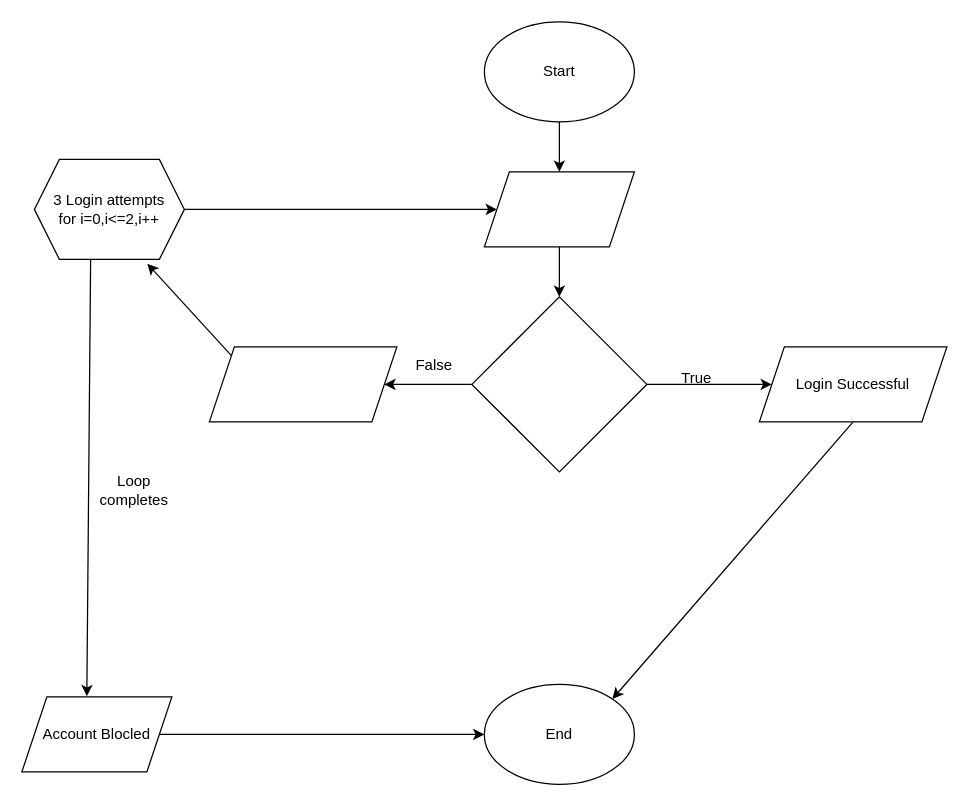
This 969x806 diagram has some shape labels left out. Here are the shapes that lost their labels. From the top down, the centre of each, then its label:
(x=558, y=209): USERNAME PASSWORD
(x=302, y=384): Login Unsuccessful
(x=559, y=384): Check Details
